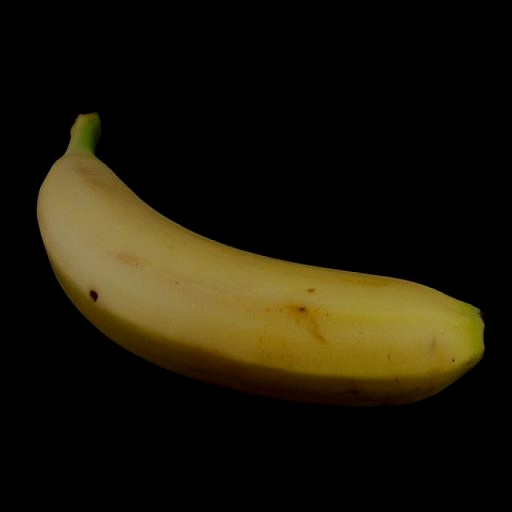fruit: (37, 113, 483, 407)
